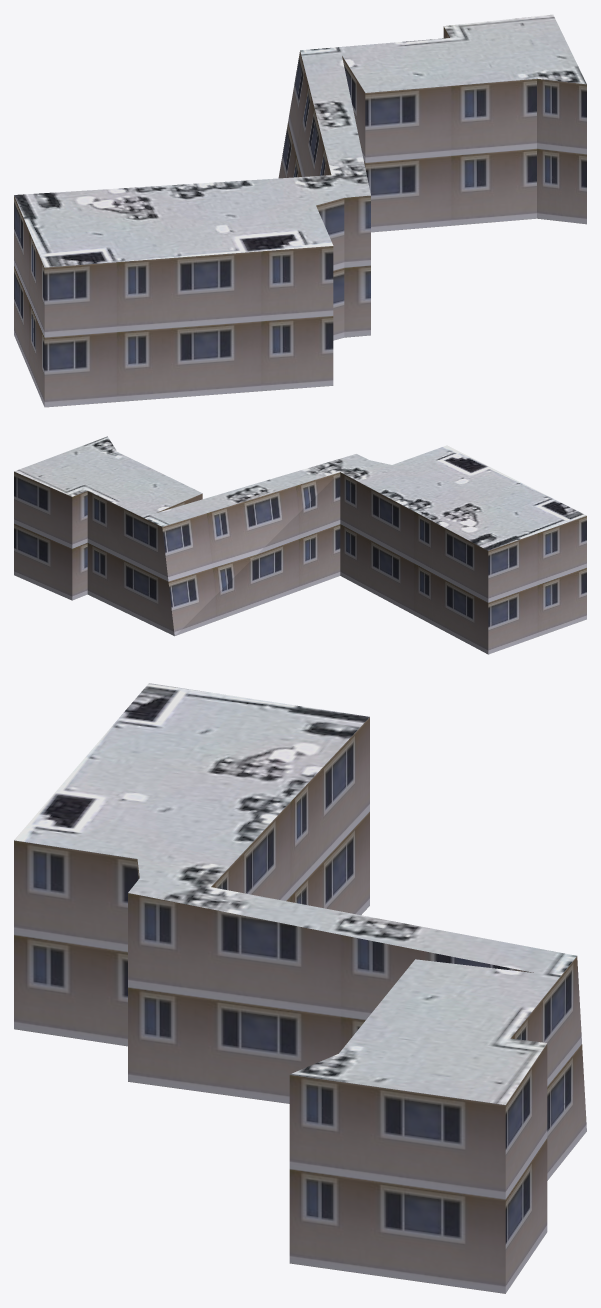
The model's file is ResTex__622.fbx.
3 views of the same model, one above another, from view 1: azimuth 30°, elevation 25°; view 2: azimuth 150°, elevation 25°; view 3: azimuth 270°, elevation 25° (orthographic). The views are drawn at different scales.
Visible parts, largest first — view 1: CityEngineMaterial_21_m, CityEngineMaterial_4_m; view 2: CityEngineMaterial_21_m, CityEngineMaterial_4_m; view 3: CityEngineMaterial_21_m, CityEngineMaterial_4_m.
Boxes of the visible parts, bbox=[...] form: CityEngineMaterial_21_m: bbox=[14, 26, 586, 407]; CityEngineMaterial_4_m: bbox=[14, 14, 586, 267]; CityEngineMaterial_21_m: bbox=[14, 471, 586, 654]; CityEngineMaterial_4_m: bbox=[14, 436, 586, 550]; CityEngineMaterial_21_m: bbox=[14, 717, 586, 1293]; CityEngineMaterial_4_m: bbox=[14, 683, 576, 1104].
Size of the model in its own units: 28.74 by 6 by 16.49.
2 materials, 2 textured.
